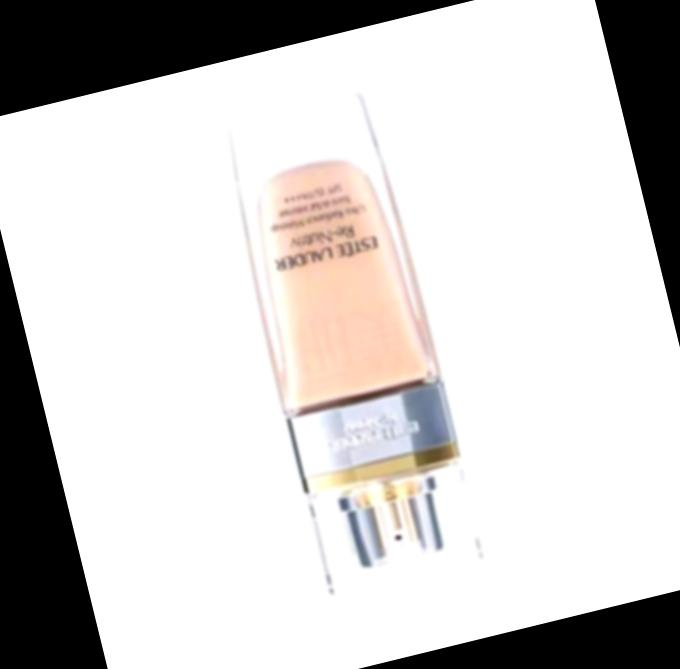cosmetic: (217, 86, 484, 595)
